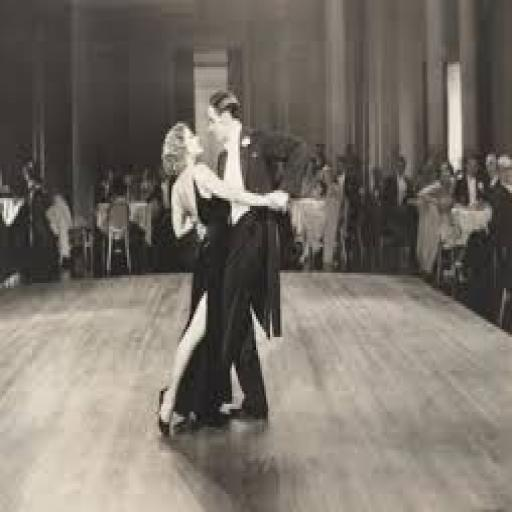dancing: (155, 118, 292, 440)
